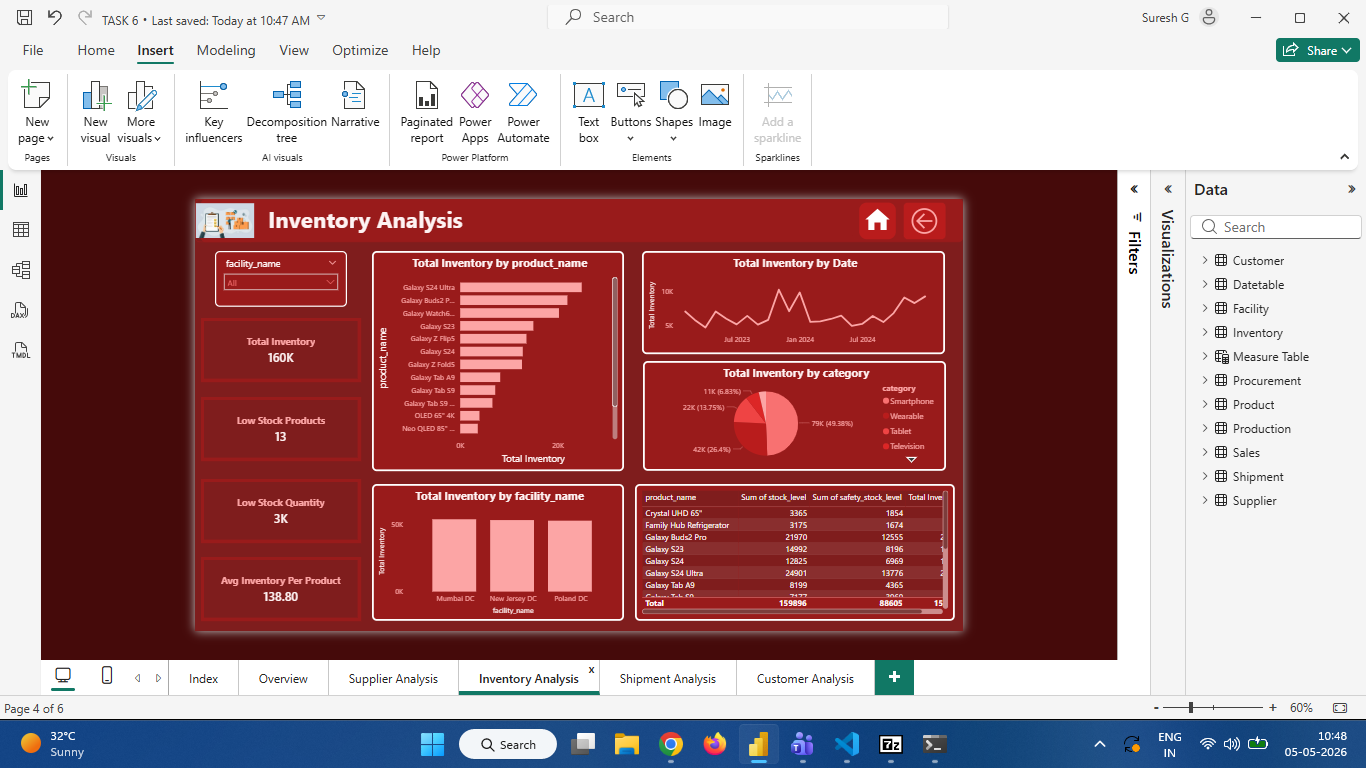

The page's visual inventory and layout, read from the dashboard file:
{"tool":"powerbi","page":{"name":"Inventory Analysis","canvas":[1280,720],"ordinal":3},"visuals":[{"type":"textbox","box":[10,0,1270,71.7],"z":0},{"type":"cardVisual","fields":{"Data":["Measure Table.Total Inventory"]},"box":[10,198.3,266.7,106.7],"z":1},{"type":"cardVisual","fields":{"Data":["Measure Table.Low Stock Products"]},"box":[10,330,266.7,106.7],"z":2},{"type":"cardVisual","fields":{"Data":["Measure Table.Low Stock Quantity"]},"box":[10,466.7,266.7,106.7],"z":3},{"type":"cardVisual","fields":{"Data":["Measure Table.Avg Inventory Per Product"]},"box":[10,596.7,266.7,106.7],"z":4},{"type":"clusteredBarChart","fields":{"Y":["Measure Table.Total Inventory"],"Category":["Product.product_name"]},"box":[295,86.7,420,366.7],"z":5},{"type":"clusteredColumnChart","fields":{"Y":["Measure Table.Total Inventory"],"Category":["Facility.facility_name"]},"box":[295,475,420,228.3],"z":6},{"type":"lineChart","title":"Total Inventory by Date","fields":{"Y":["Measure Table.Total Inventory"],"Category":["Datetable.date.Variation.Date Hierarchy.Year","Datetable.date.Variation.Date Hierarchy.Quarter","Datetable.date.Variation.Date Hierarchy.Month","Datetable.date.Variation.Date Hierarchy.Day"]},"box":[745,86.7,505,171.7],"z":7},{"type":"tableEx","fields":{"Values":["Product.product_name","Sum(Inventory.stock_level)","Sum(Inventory.safety_stock_level)","Measure Table.Total Inventory"]},"box":[733.3,475,533.3,228.3],"z":8},{"type":"pieChart","fields":{"Category":["Product.category"],"Y":["Measure Table.Total Inventory"]},"box":[746.7,270,505,183.3],"z":9},{"type":"slicer","fields":{"Values":["Facility.facility_name"]},"box":[33.3,86.7,220,93.3],"z":10},{"type":"image","box":[0,0,100,71.7],"z":11},{"type":"actionButton","box":[1180,5,71.7,63.3],"z":12},{"type":"image","box":[1095,5,85,63.3],"z":13}]}

Visuals, with their boxes on the page's 1280x720 design canvas (x1, y1, x2, y2). These are canvas units, not pixel positions in the 1366x768 screenshot, which may show the page scaled, cropped or inside an application window:
textbox: [10,0,1280,72]
cardVisual - Measure Table.Total Inventory: [10,198,277,305]
cardVisual - Measure Table.Low Stock Products: [10,330,277,437]
cardVisual - Measure Table.Low Stock Quantity: [10,467,277,573]
cardVisual - Measure Table.Avg Inventory Per Product: [10,597,277,703]
clusteredBarChart - Measure Table.Total Inventory x Product.product_name: [295,87,715,453]
clusteredColumnChart - Measure Table.Total Inventory x Facility.facility_name: [295,475,715,703]
"Total Inventory by Date" lineChart: [745,87,1250,258]
tableEx - Product.product_name x Sum(Inventory.stock_level): [733,475,1267,703]
pieChart - Product.category x Measure Table.Total Inventory: [747,270,1252,453]
slicer - Facility.facility_name: [33,87,253,180]
image: [0,0,100,72]
actionButton: [1180,5,1252,68]
image: [1095,5,1180,68]
